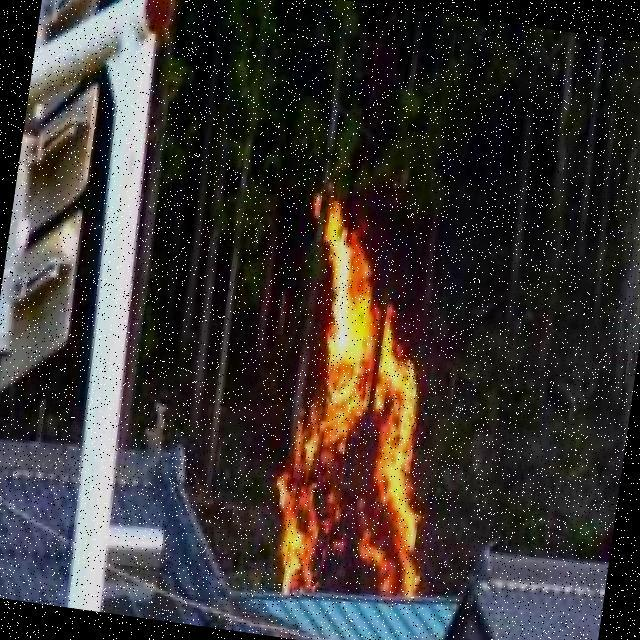Fire: (259, 192, 465, 609)
